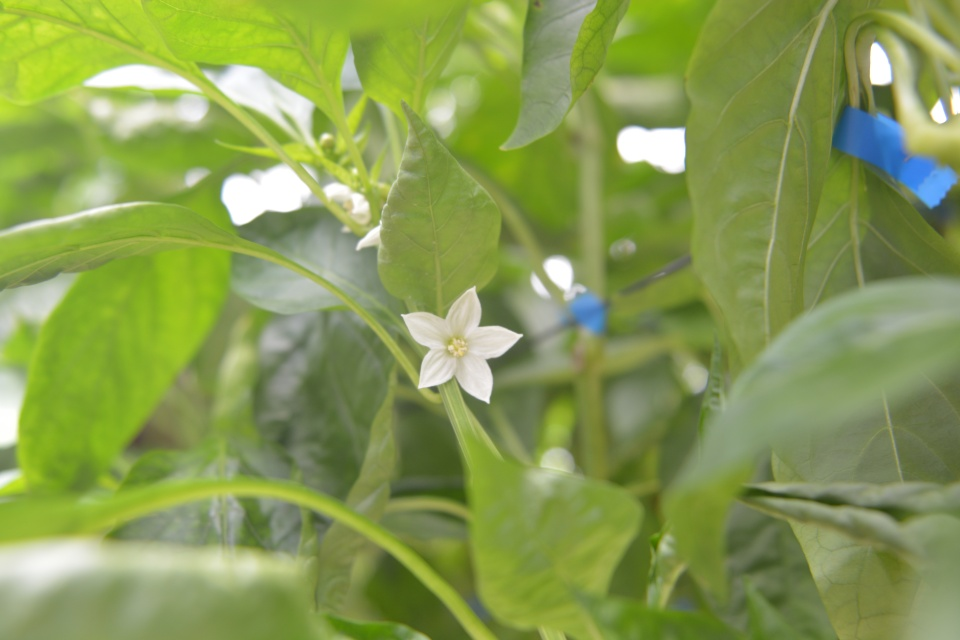flower: (399, 281, 525, 406)
